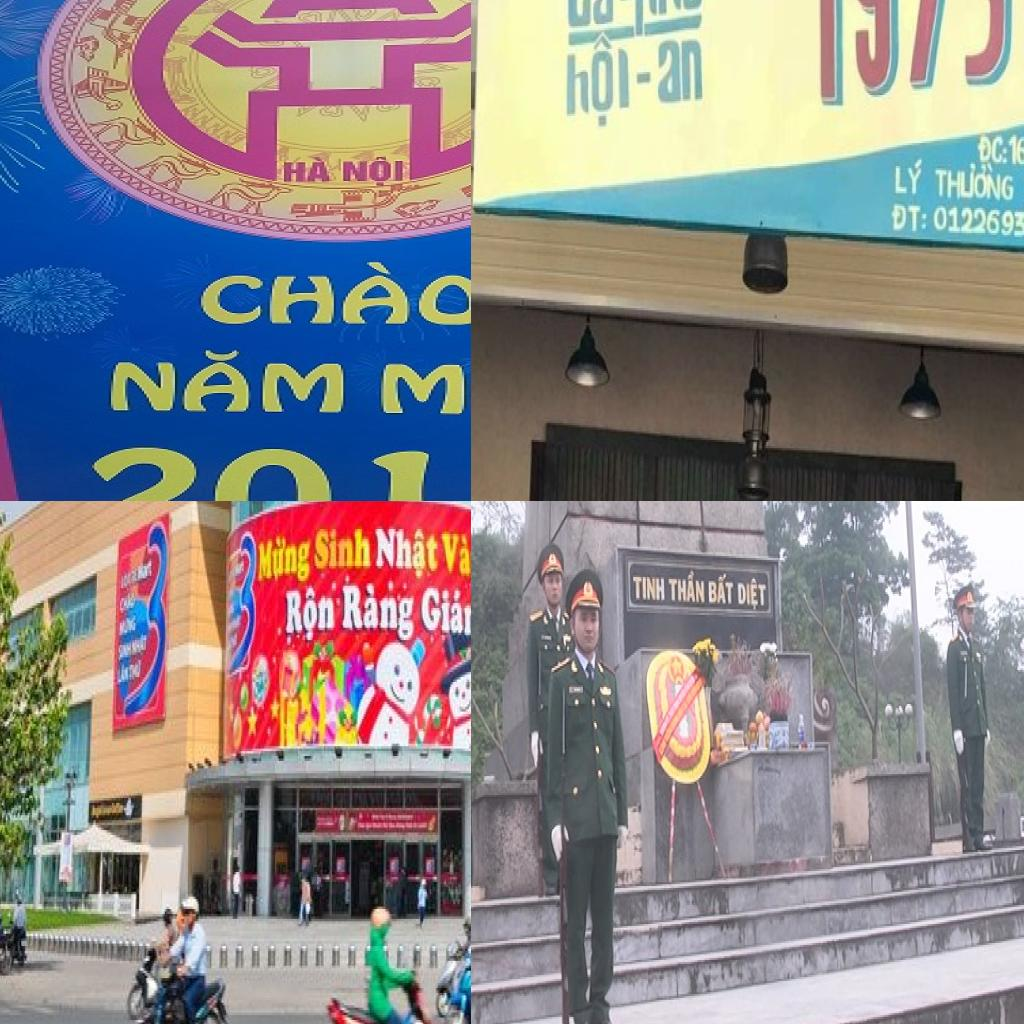text: (802, 0, 1011, 107), (194, 262, 471, 327), (104, 346, 348, 416), (119, 516, 169, 722), (378, 348, 471, 418), (566, 30, 630, 131), (338, 578, 416, 652), (227, 532, 256, 680), (371, 524, 442, 581), (936, 156, 1016, 204), (933, 201, 1024, 243), (420, 583, 471, 652), (257, 527, 313, 588), (283, 586, 336, 647), (658, 38, 704, 106), (316, 522, 371, 576), (634, 0, 704, 38), (341, 156, 407, 189), (441, 529, 471, 595), (567, 0, 614, 30), (284, 157, 336, 184), (668, 570, 706, 606), (895, 154, 926, 198), (891, 202, 928, 237), (976, 131, 1010, 168), (738, 575, 768, 611), (632, 575, 666, 604), (708, 572, 734, 608), (1008, 130, 1024, 172)
